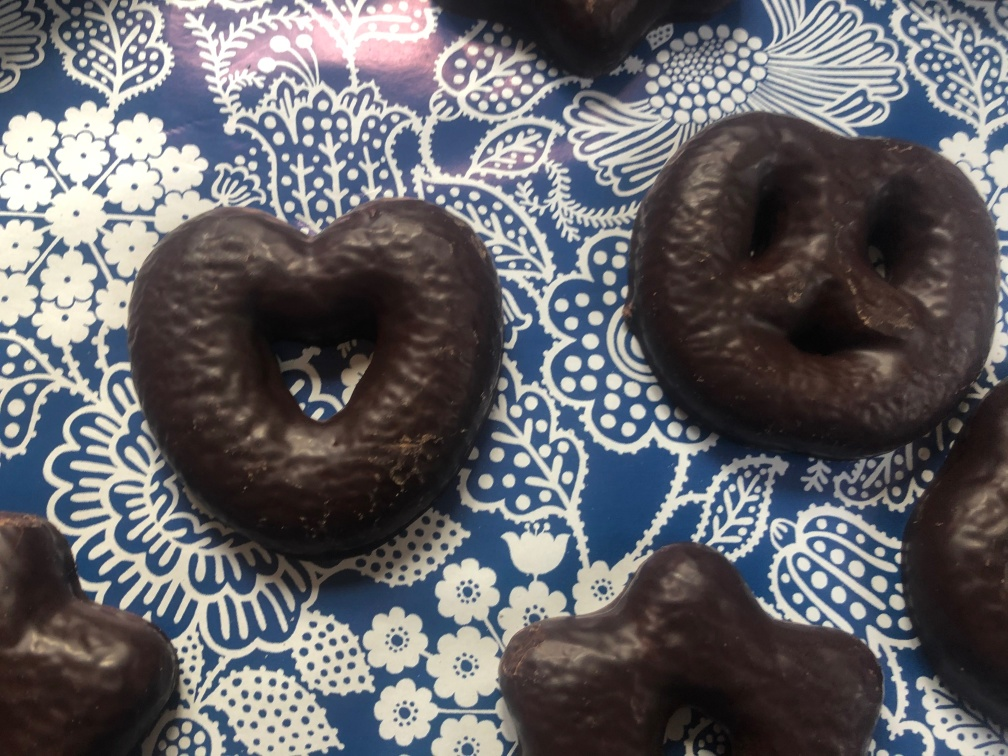bretzel: (627, 115, 997, 451)
heart: (124, 192, 497, 568)
star: (494, 542, 889, 754)
